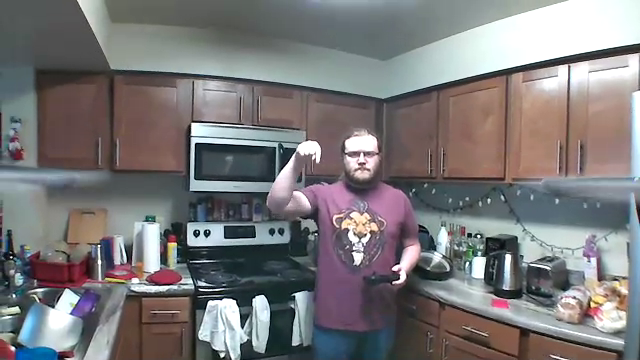down: (295, 138, 323, 169)
